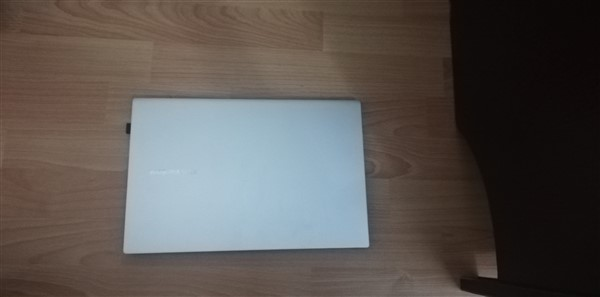laptop: (120, 95, 373, 256)
